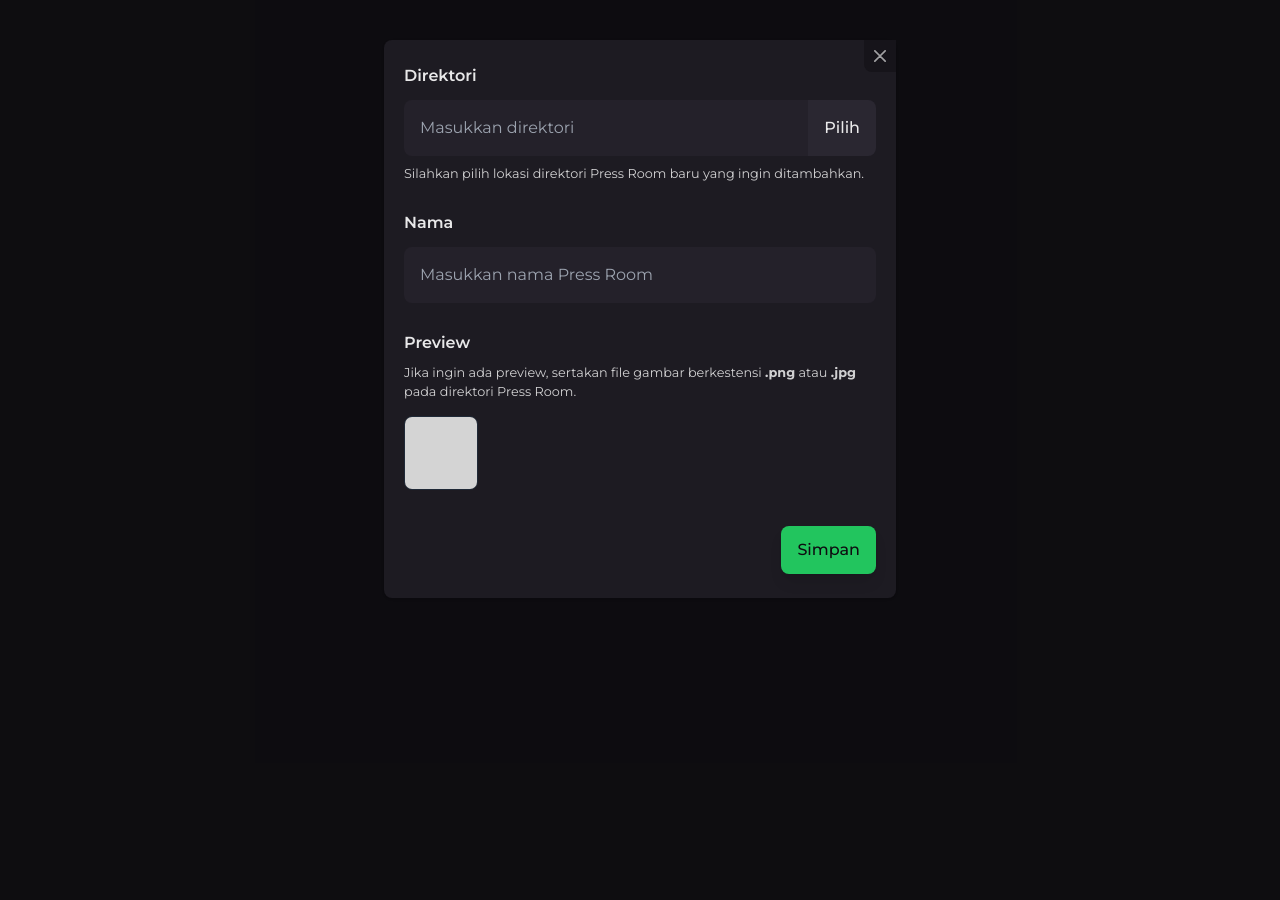
it: ModalWithSimpleConfigForm component › should show error alert and not reset form submit when submit button clicked and add data is failed
The image size is (1280, 900).
Step 1. Click the button with test id "choose-directory-btn" → (842, 128), box [808,100,876,156]
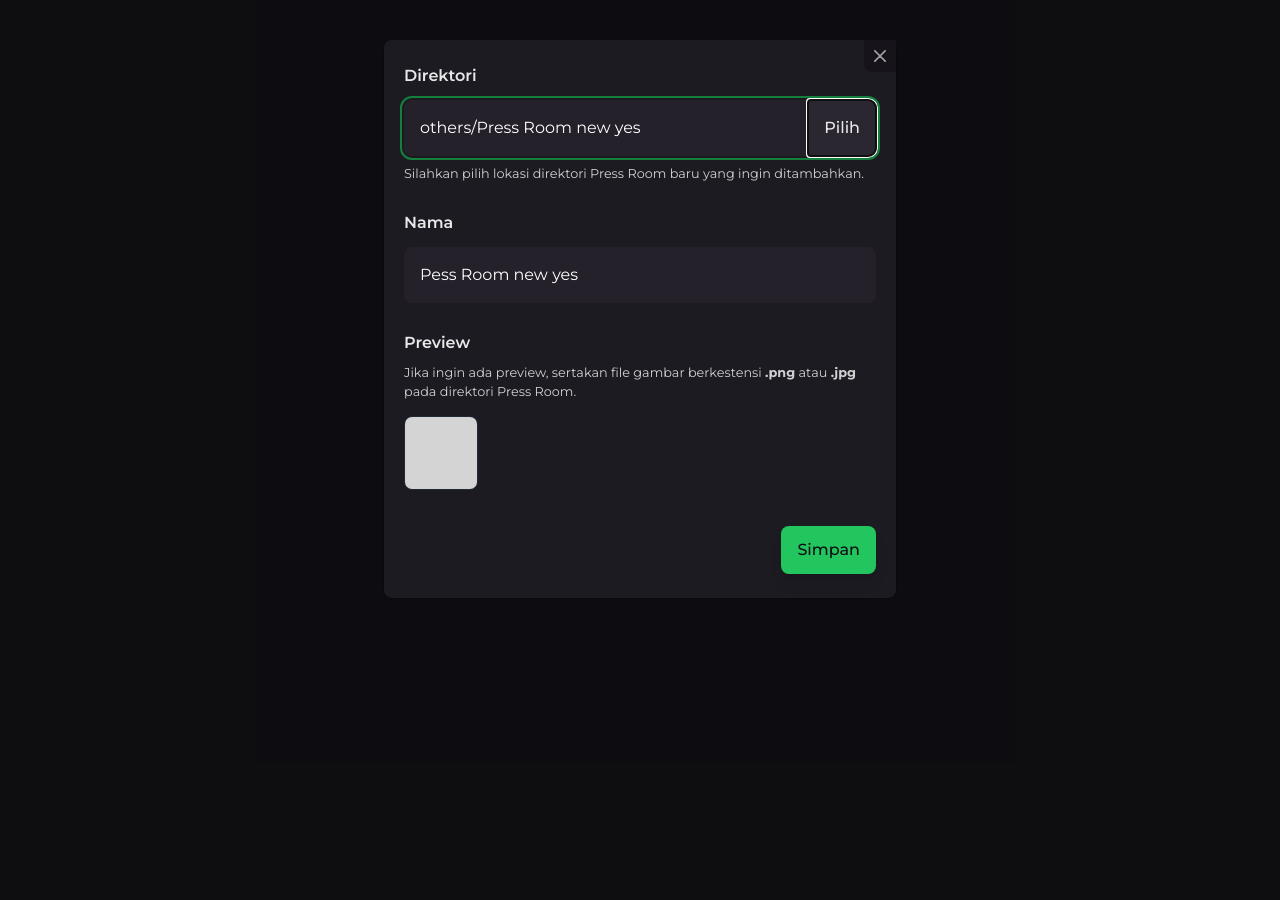
Step 2. Replace the text in the field labelled "Nama" with "Reza Fikkri" → (640, 275), box [404,247,876,303]
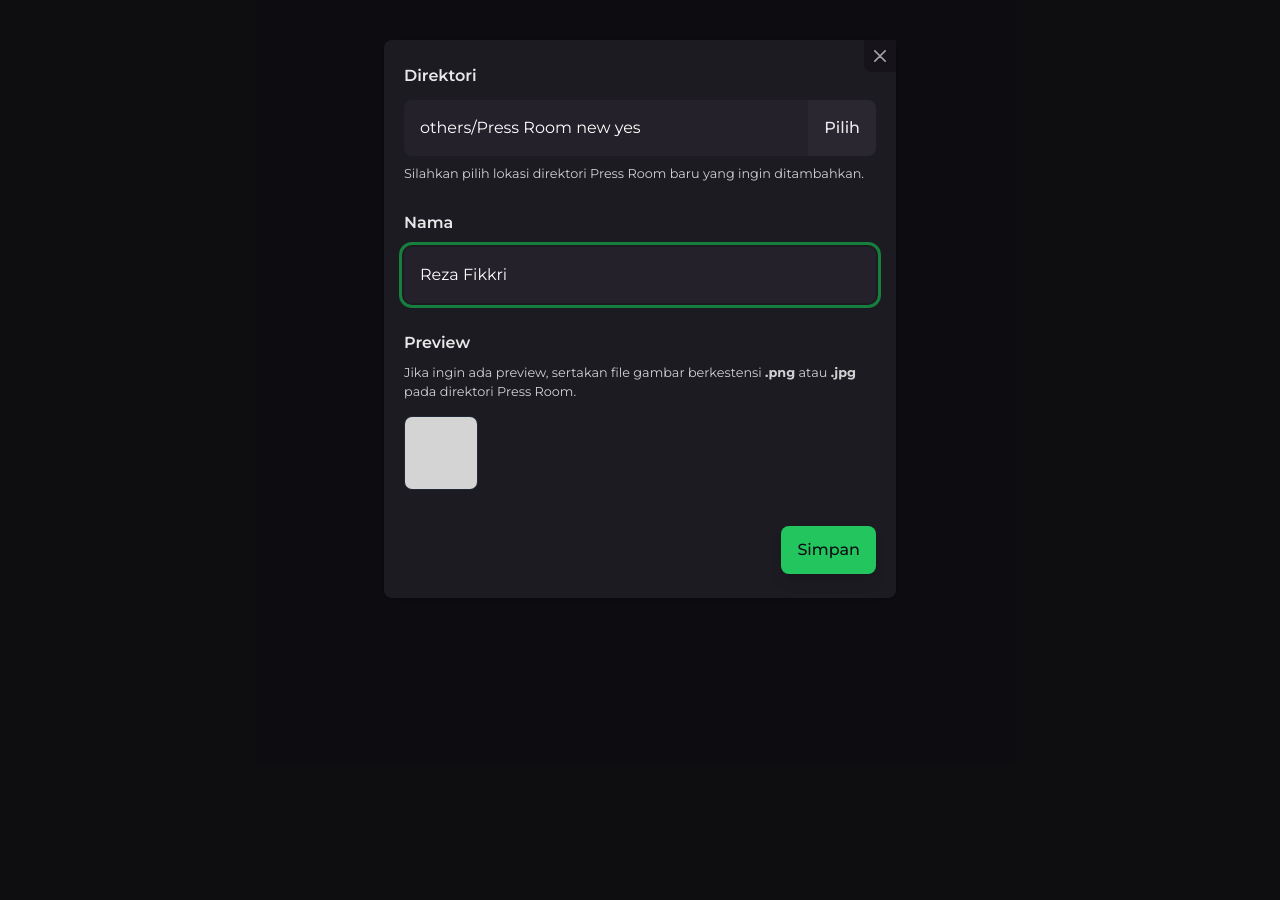
Step 3. Click the button with test id "submit-btn" → (829, 550), box [781,526,876,574]
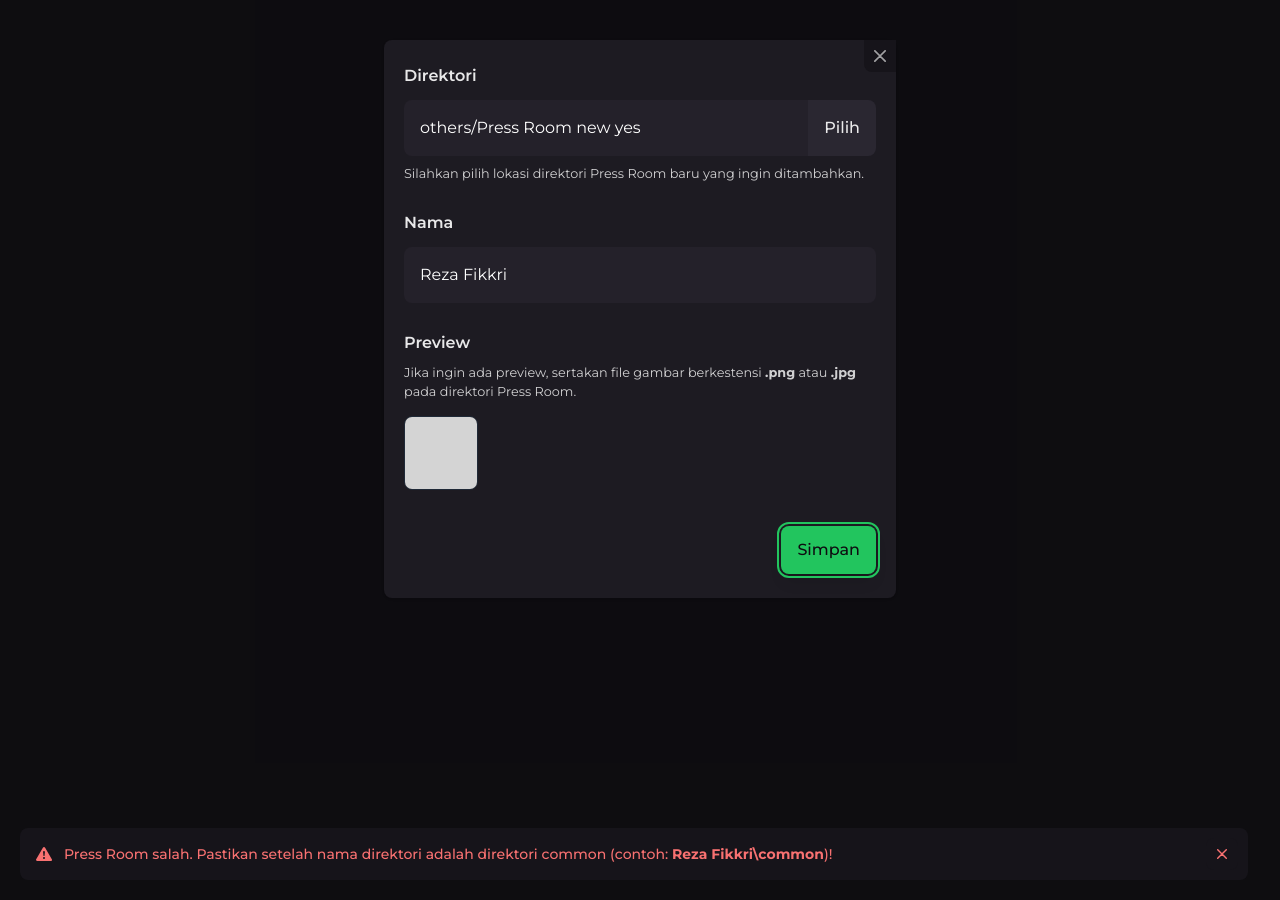
Result: the element with test id "modal-with-simple-config-form-error-alert" is shown at [20,828,1248,880]
